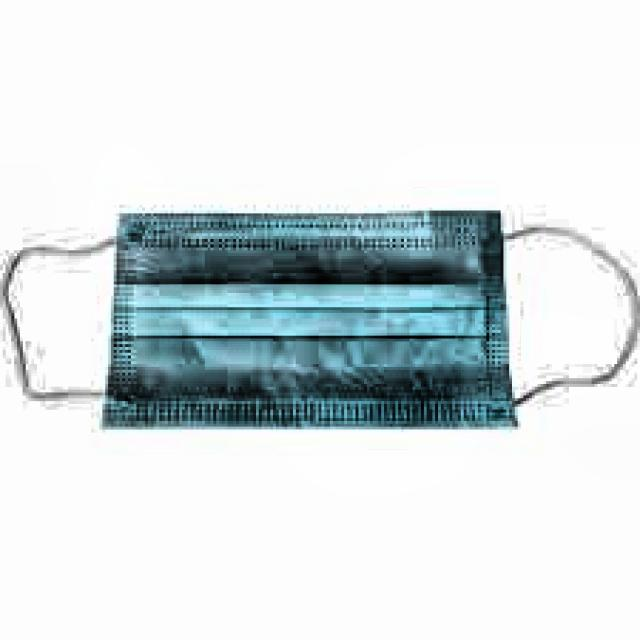trash: (104, 194, 520, 452)
